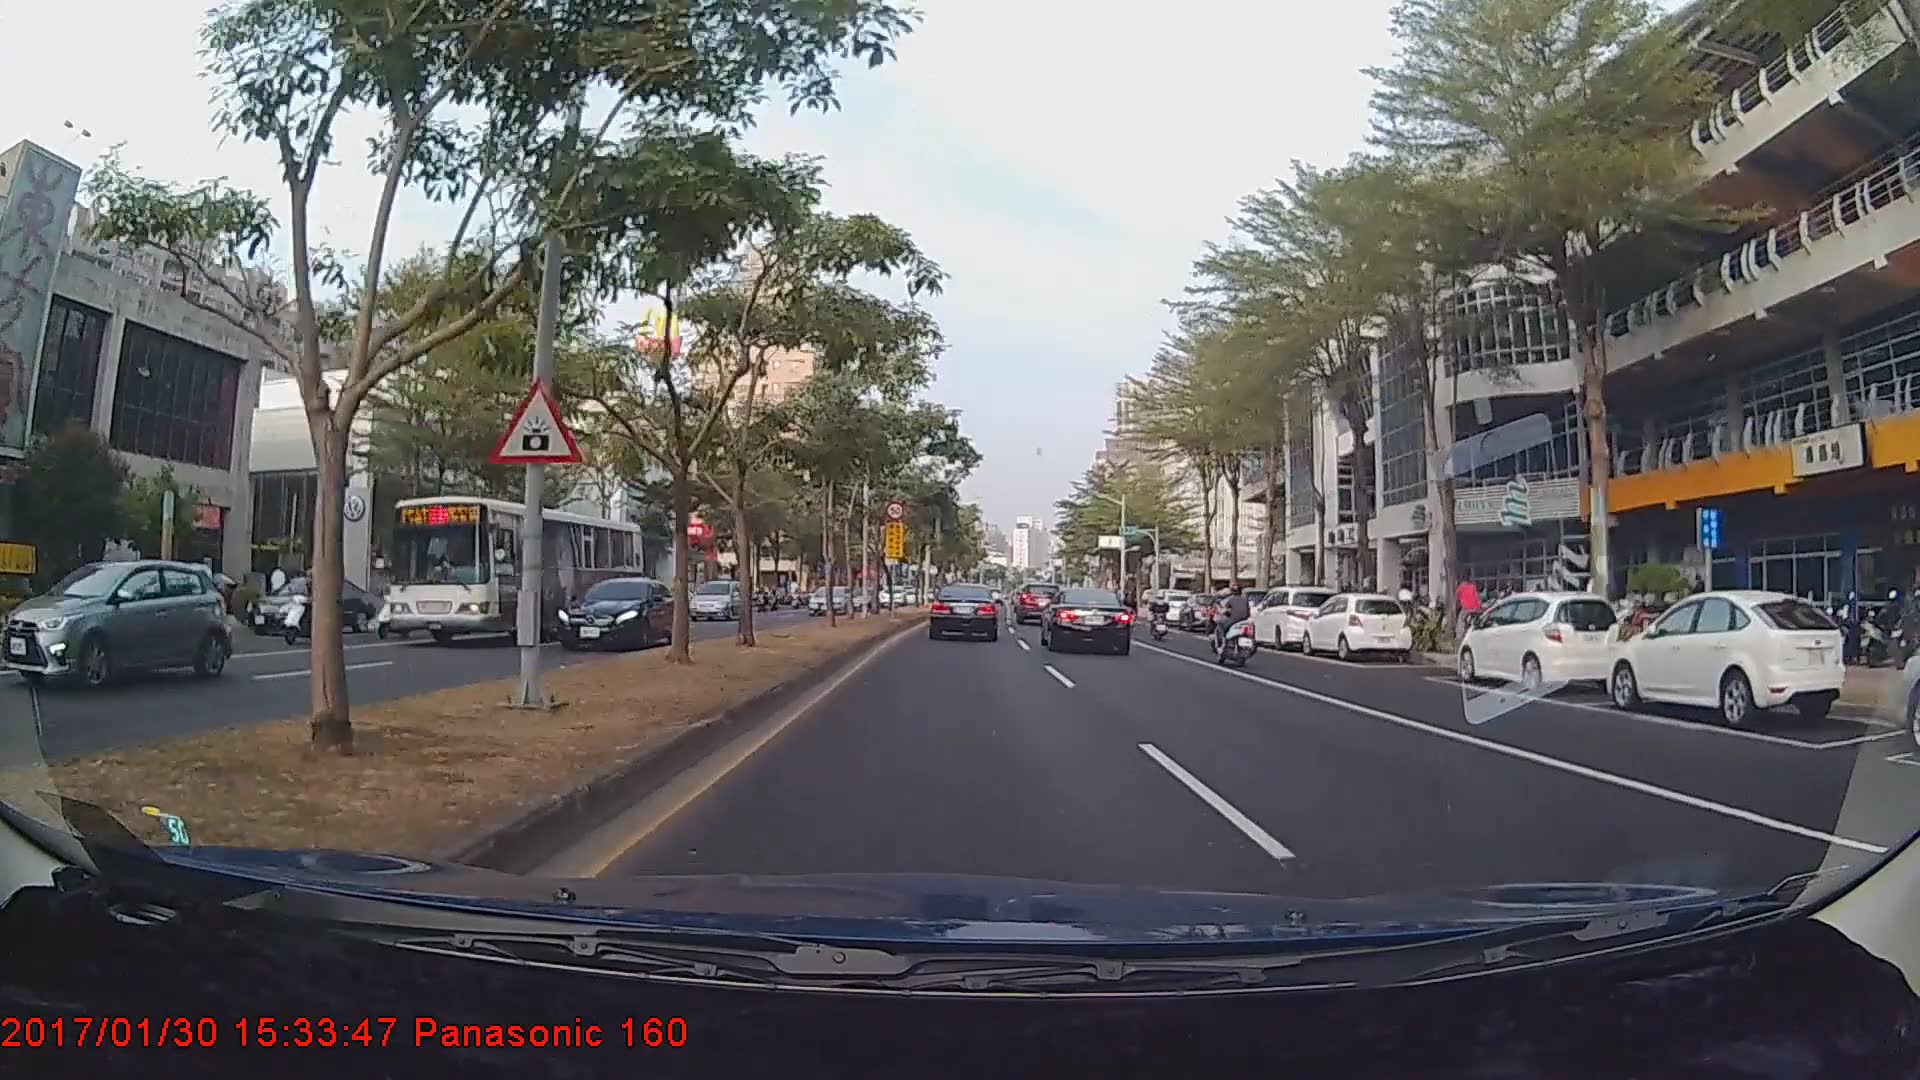rider: (1210, 582, 1265, 674), (1208, 588, 1256, 656), (1149, 586, 1176, 643)
vehicle: (385, 494, 646, 648), (1607, 588, 1848, 729), (0, 558, 233, 692), (1459, 591, 1628, 698), (554, 573, 684, 652), (245, 576, 376, 637), (1302, 591, 1409, 660), (1041, 585, 1133, 655), (1246, 585, 1345, 648), (927, 581, 1002, 642), (686, 578, 747, 620), (1014, 580, 1067, 625), (805, 584, 853, 616)
